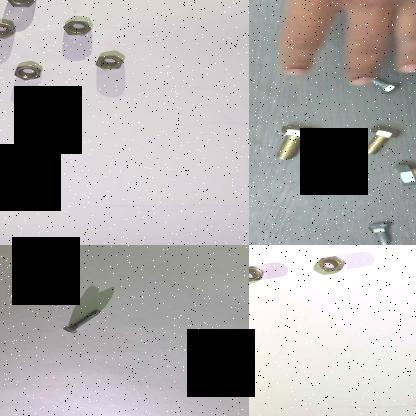Bolts: (269, 122, 323, 162), (359, 126, 404, 156), (57, 308, 105, 334), (10, 286, 64, 309), (362, 222, 398, 245), (387, 161, 416, 187), (366, 80, 406, 98)
NUTS: (58, 17, 95, 38), (314, 254, 350, 275), (89, 53, 127, 72), (12, 64, 42, 81), (0, 21, 19, 42), (3, 0, 41, 10), (249, 264, 265, 283)
